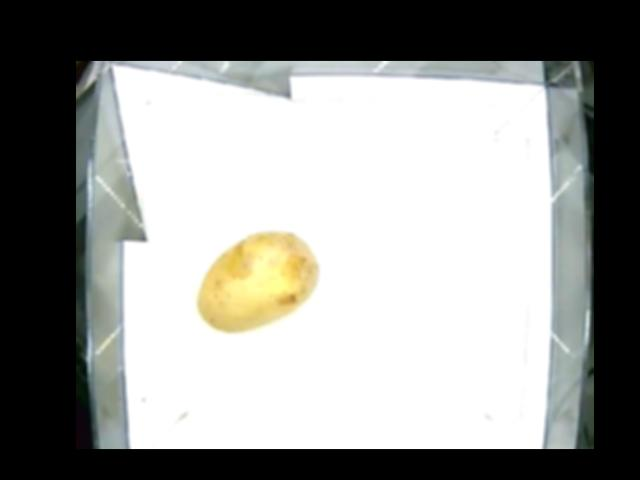Potato: (195, 232, 319, 335)
